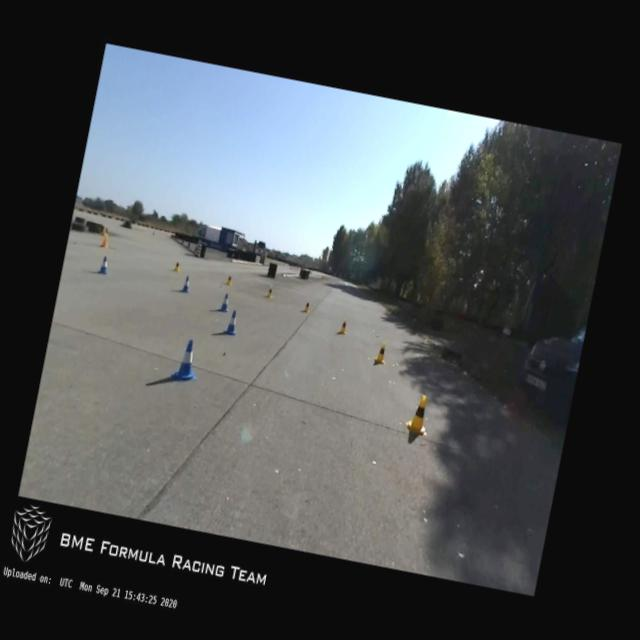blue_cone: (171, 338, 203, 384), (221, 308, 241, 336), (218, 292, 232, 314), (97, 254, 110, 274), (180, 274, 192, 294)
unknown_cone: (100, 232, 110, 250)
yellow_cone: (404, 392, 434, 437), (374, 340, 388, 364), (338, 318, 348, 336), (302, 300, 311, 314), (225, 274, 233, 286), (266, 286, 274, 298), (173, 261, 180, 272)
